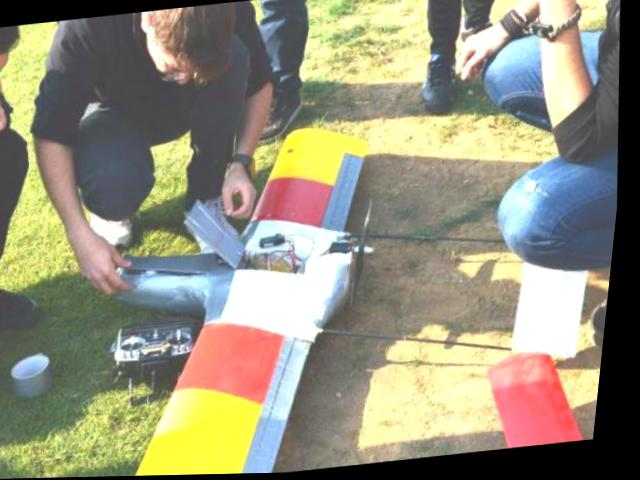iha: (85, 96, 631, 478)
